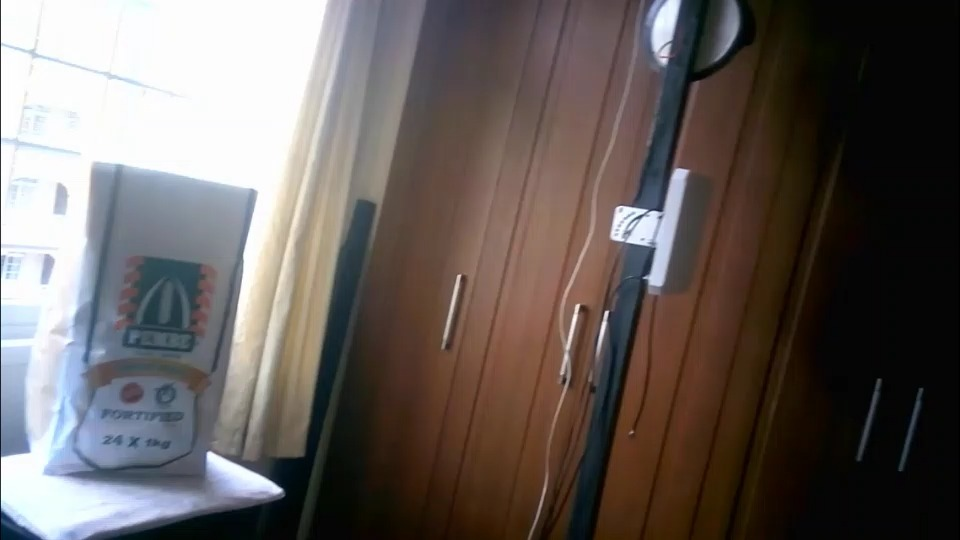maize_flour_green_label: (24, 160, 256, 483)
